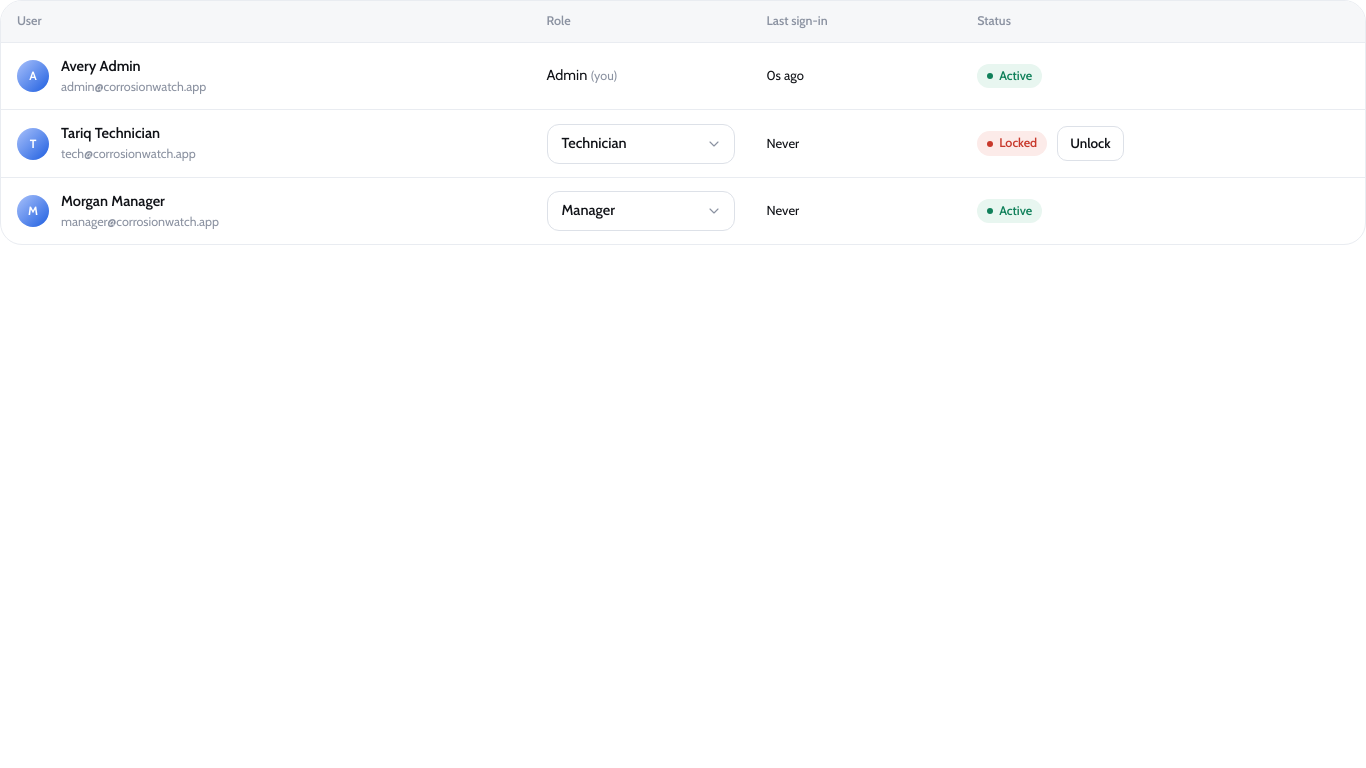
Test: Admin > Users › asks for confirmation before saving a role, then saves it and shows a toast
Expected: the text "Tariq Technician" is shown, 61,124 -> 160,142
Step 1. Click the button with aria-label "Role for Tariq Technician" → (640, 144), box 546,124 -> 734,164
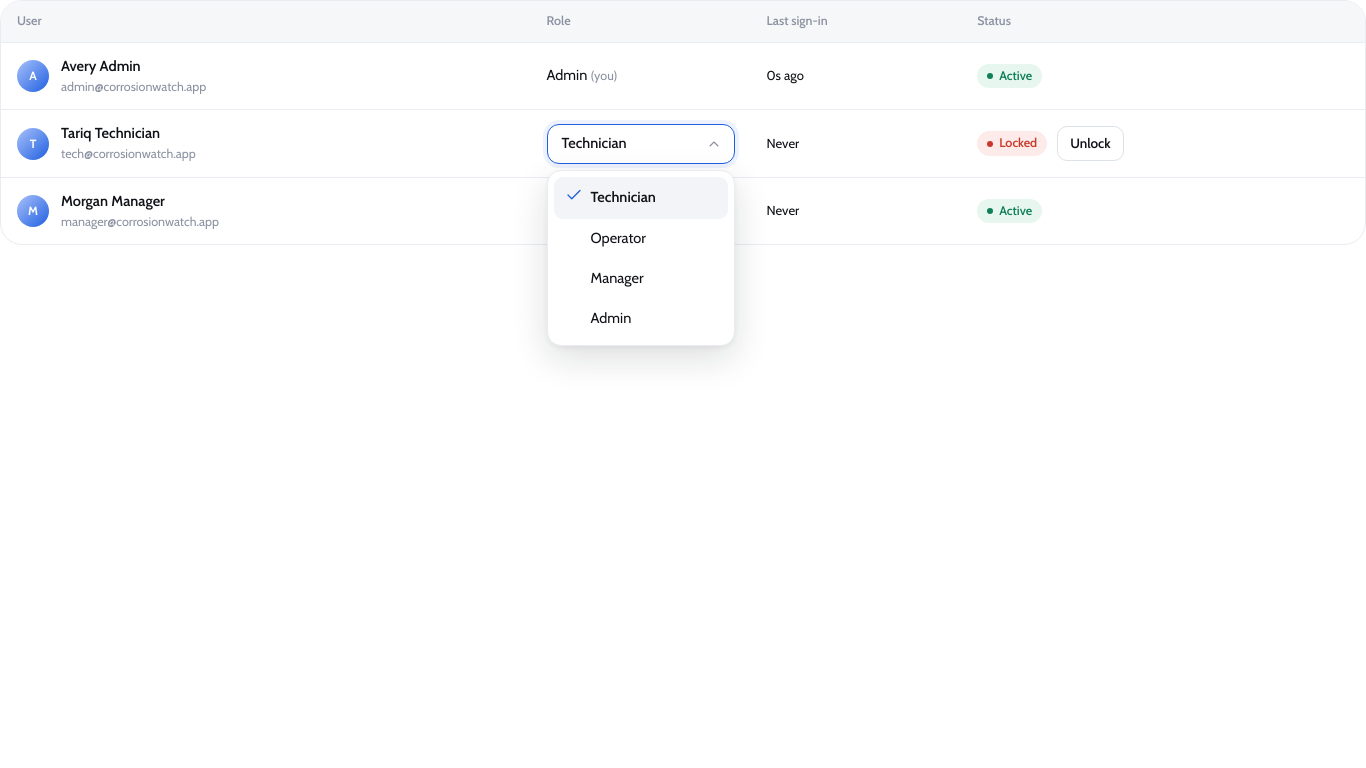
Step 2. Click the option "Operator" → (640, 239), box 554,219 -> 728,259
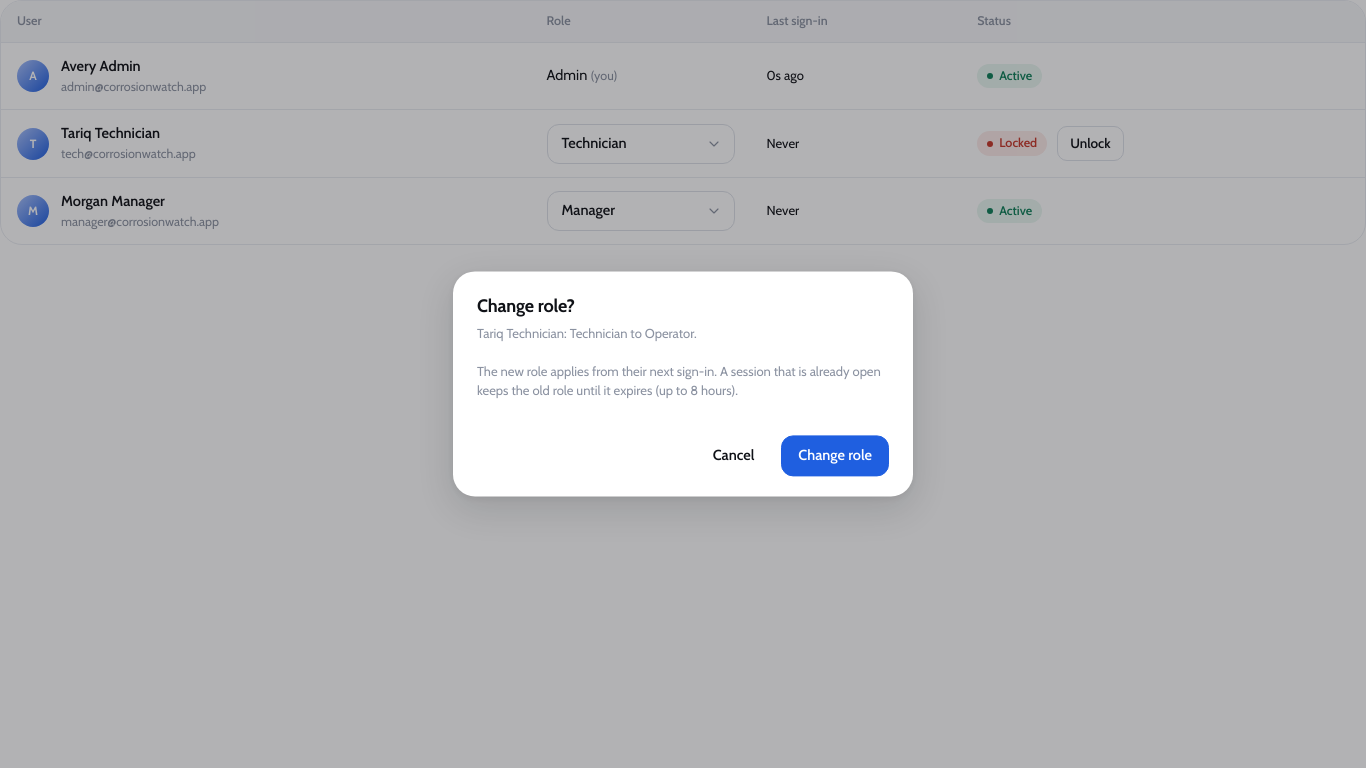
Expected: the text "Tariq Technician: Technician to Operator." is shown, 477,325 -> 697,341
Step 3. Click the button "Change role" → (835, 456), box 781,435 -> 889,477
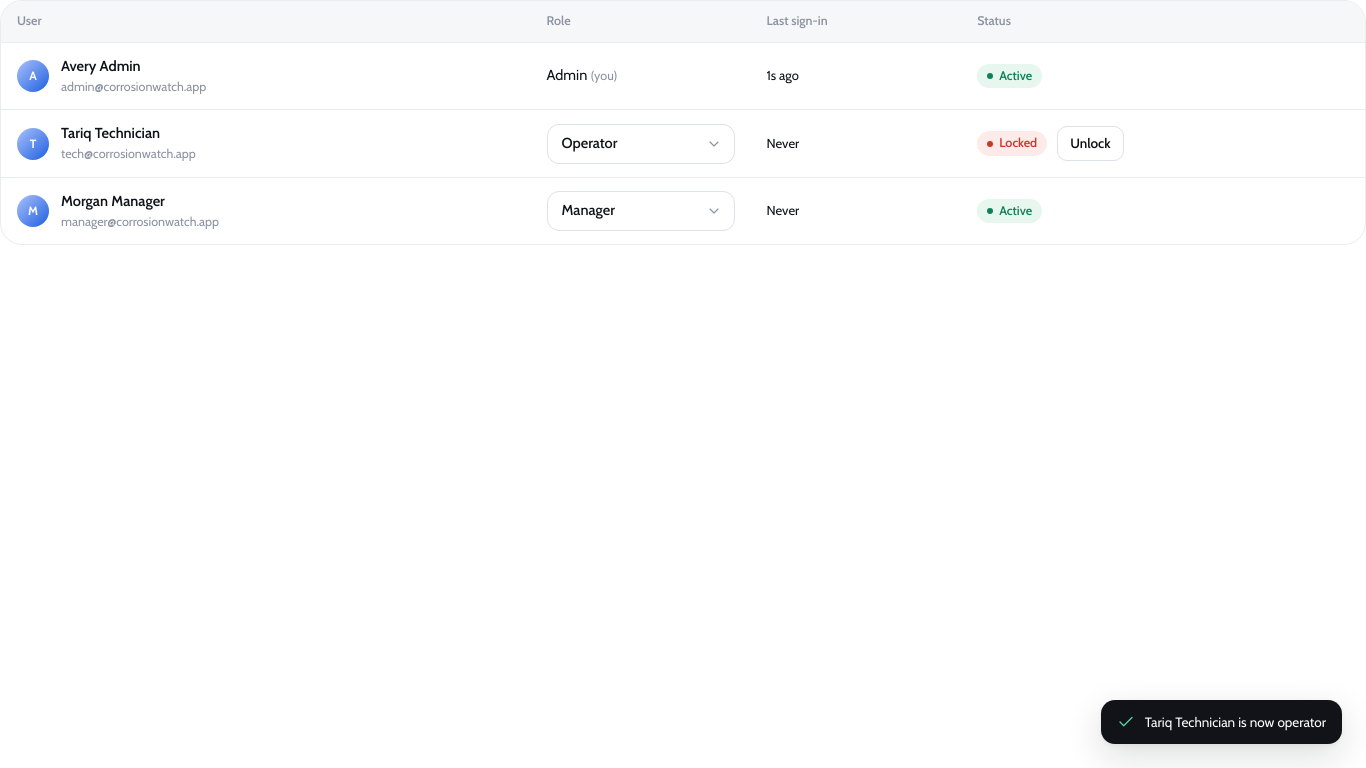
Expected: the text "Tariq Technician is now operator" is shown, 1145,712 -> 1326,732
Expected: the dialog is gone
